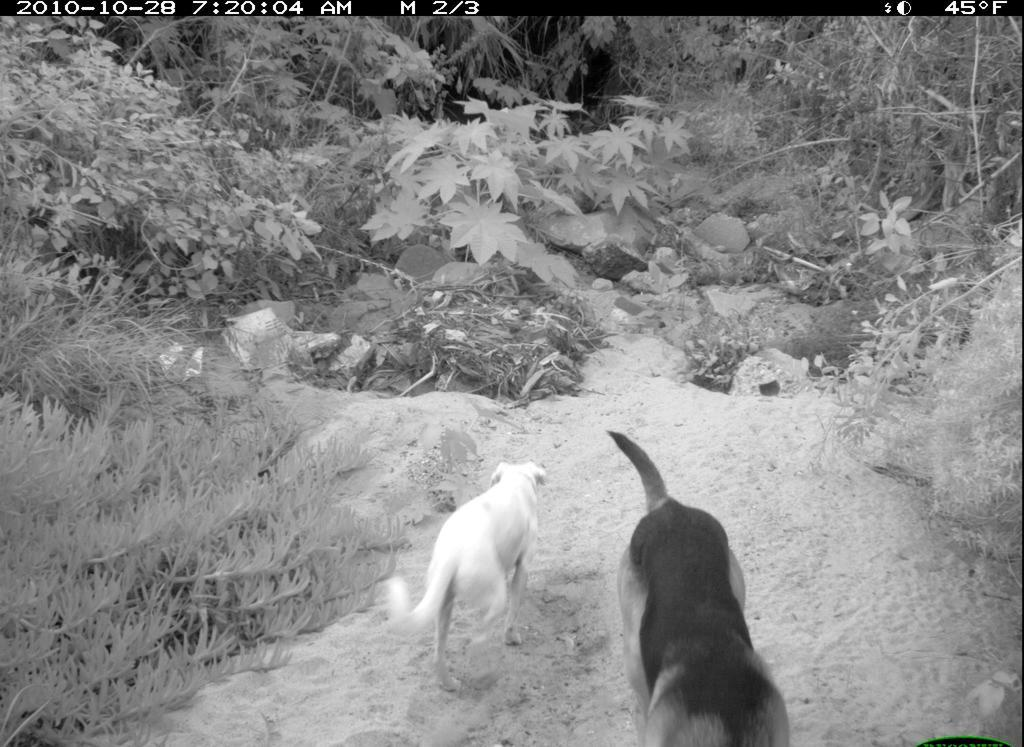dog: (585, 422, 802, 747), (386, 445, 550, 705)
